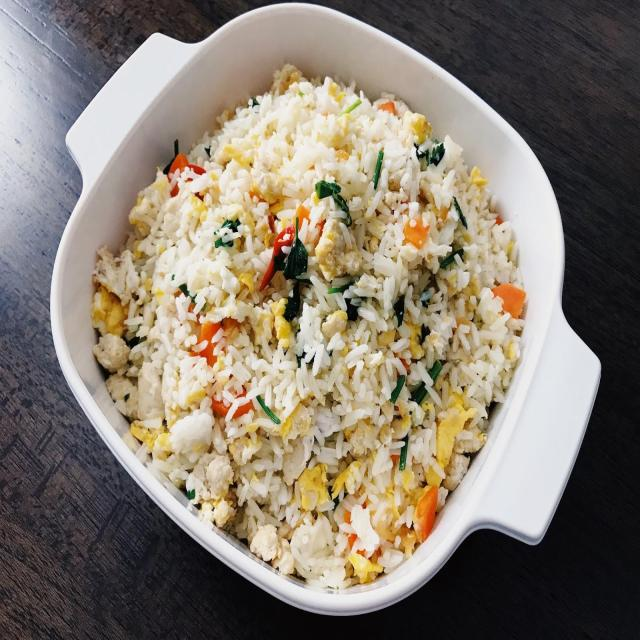Nasi Goreng: (90, 61, 528, 591)
